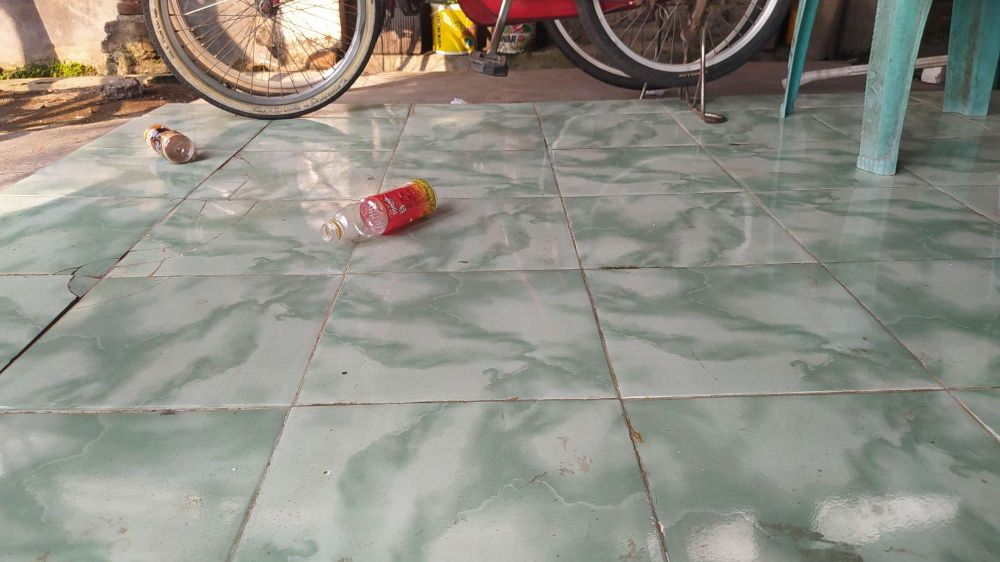botol: (306, 156, 456, 262), (124, 111, 202, 170)
